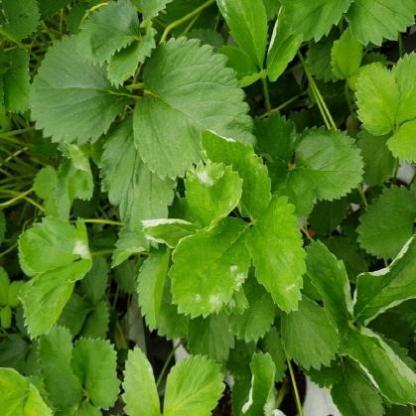Strawberry_Powdery_Mildew_Leaf: (168, 217, 252, 319), (246, 195, 308, 316), (200, 128, 272, 220), (15, 216, 92, 277), (182, 158, 244, 228), (215, 0, 270, 70), (239, 350, 285, 415), (139, 218, 200, 247)
